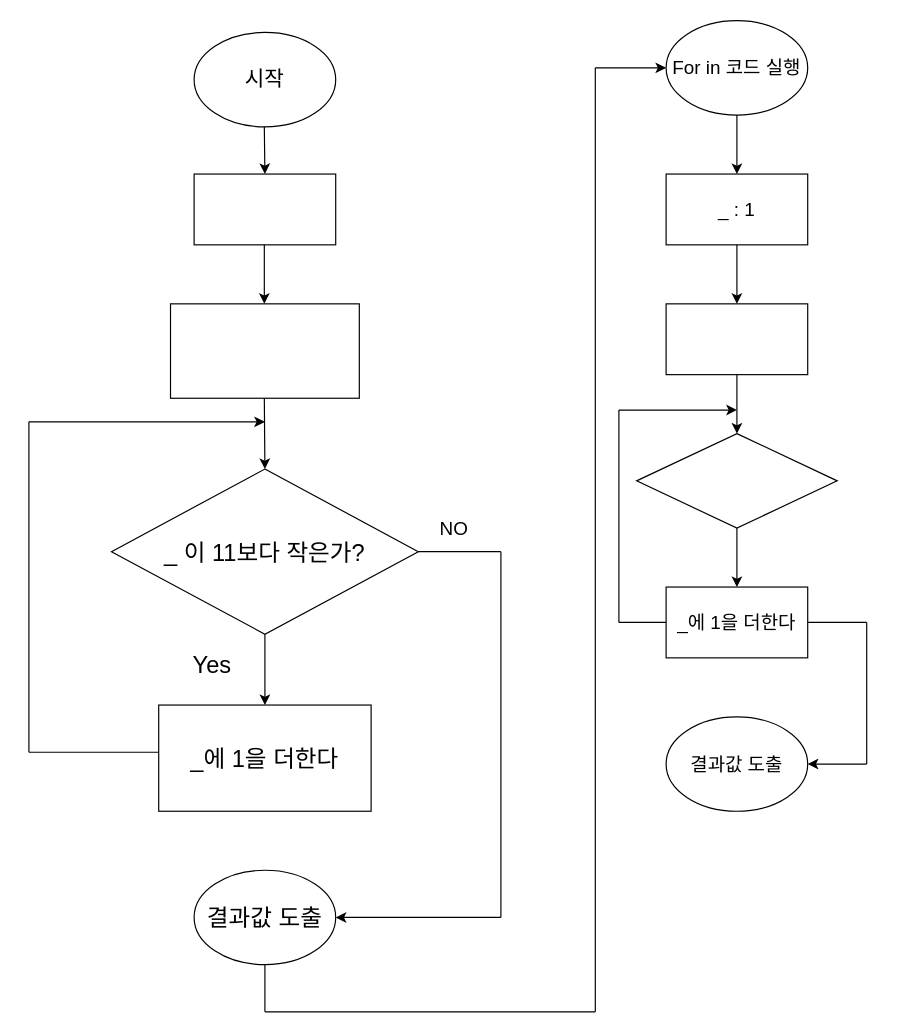
The diagram is 897 pixels wide and 1034 high, and some of its shapes have lost their labels. Each missing label, with the box of its shape:
"\(ice(x: star))" 출력: (665, 303, 808, 375)
"\(x)" , terminator: "" return "" 출력: (169, 303, 359, 398)
_이 8보다 작은가?: (635, 432, 837, 528)
x: star _ : 1: (193, 173, 336, 245)
